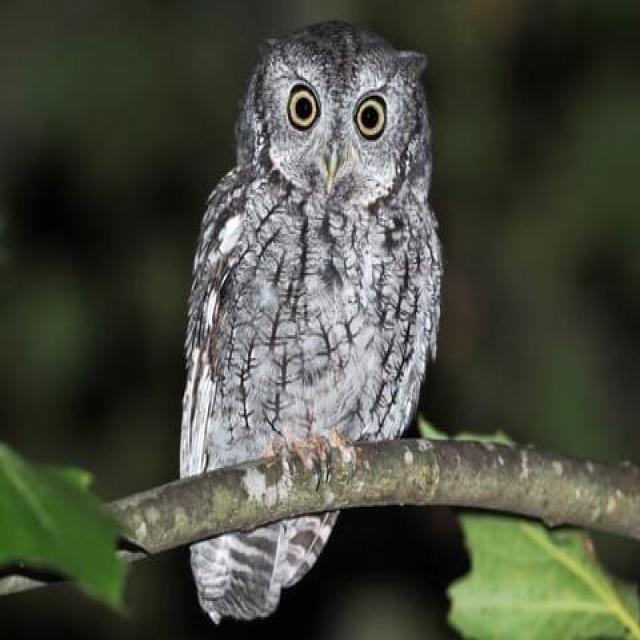Owl: (175, 21, 445, 626)
